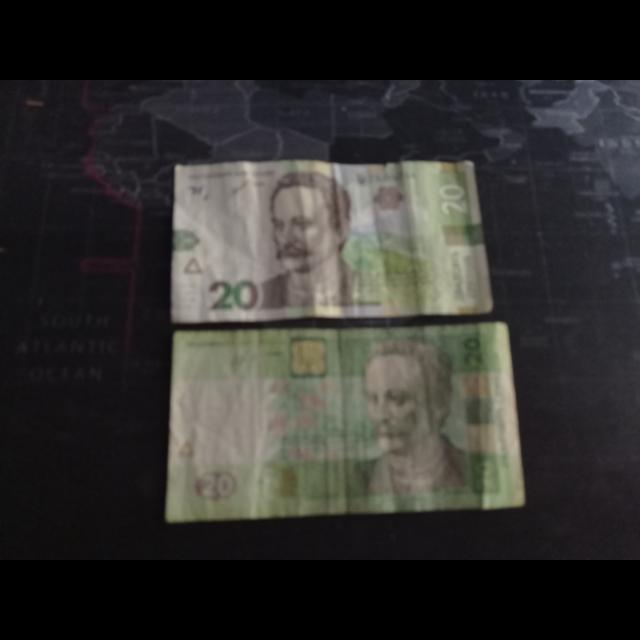20uah: (167, 330, 523, 518), (174, 164, 494, 318)
